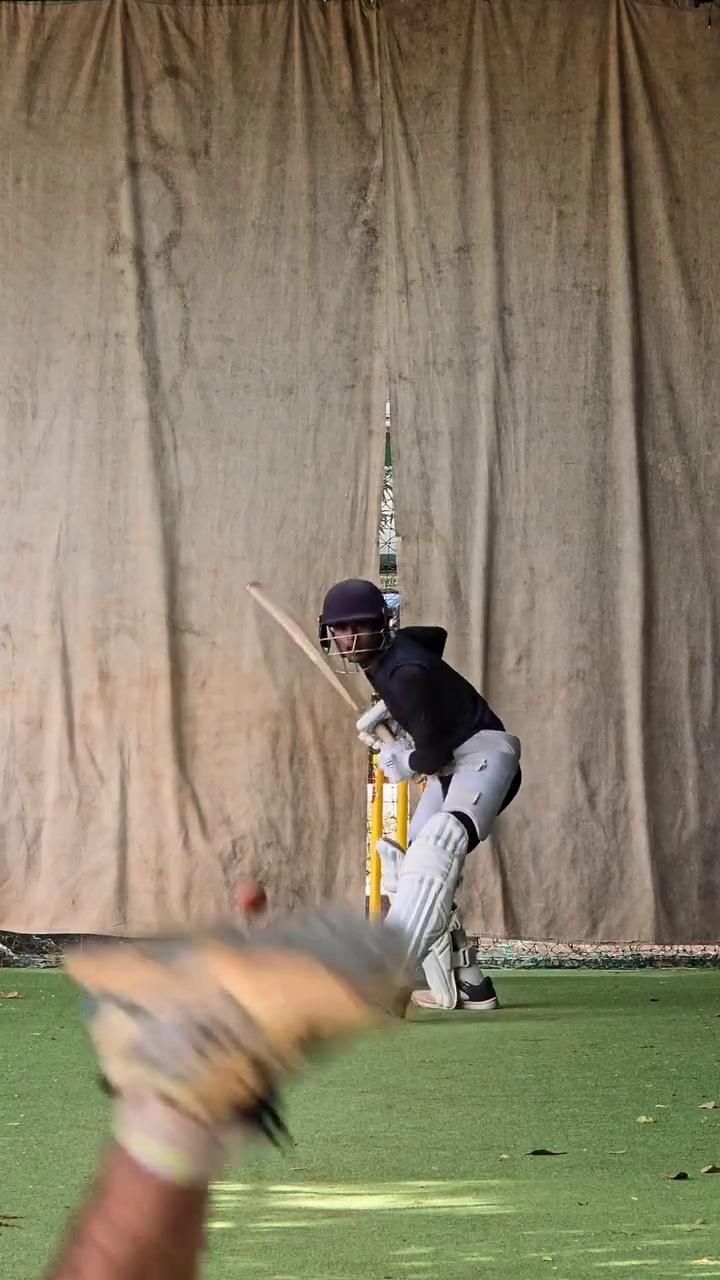bat: (244, 569, 369, 721)
